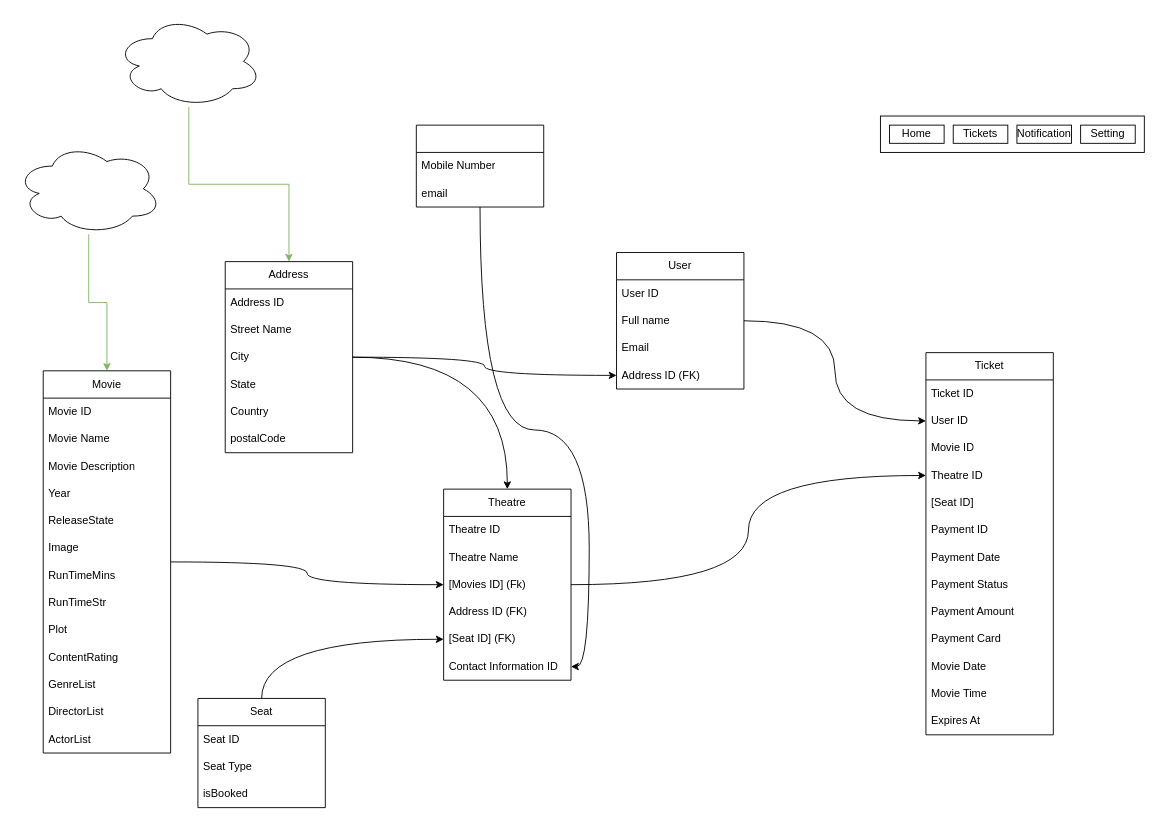
The diagram is 1160 pixels wide and 824 high, and some of its shapes have lost their labels. The box of each missing label's shape, as (x1, y1, x2, y2) in pixels:
Contact Informtion: (415, 124, 544, 207)
imdb API search: (15, 142, 162, 234)
Nominatim API search: (115, 15, 262, 107)
